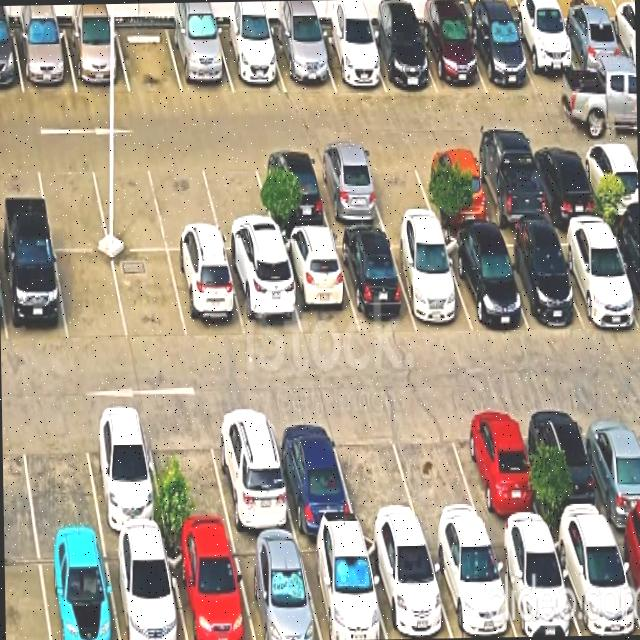empty: (388, 408, 486, 533), (329, 411, 421, 532), (144, 412, 232, 537), (18, 412, 101, 539), (200, 152, 277, 250), (90, 156, 166, 250), (149, 156, 222, 250), (35, 156, 108, 249), (112, 251, 187, 341), (54, 251, 127, 341), (360, 150, 436, 225), (115, 25, 182, 93)
occupied: (453, 405, 545, 530), (207, 408, 295, 535), (268, 411, 356, 533), (525, 404, 610, 529), (81, 411, 165, 536), (549, 526, 640, 635), (487, 531, 580, 637), (425, 532, 517, 638), (297, 535, 386, 640), (230, 538, 321, 640), (363, 535, 452, 639), (552, 224, 640, 326), (166, 538, 254, 640), (494, 231, 582, 329), (441, 233, 528, 332), (104, 538, 186, 640), (387, 233, 472, 331), (333, 232, 416, 332), (278, 234, 358, 337), (37, 539, 118, 640), (578, 403, 640, 525), (168, 251, 245, 339), (0, 246, 67, 343), (225, 251, 301, 336), (469, 146, 549, 226), (254, 152, 330, 231), (415, 148, 492, 224), (310, 151, 385, 228), (510, 21, 586, 96), (555, 21, 634, 93), (528, 143, 600, 219), (465, 20, 537, 93), (417, 20, 486, 94), (366, 24, 437, 93), (215, 26, 285, 93), (166, 25, 233, 93), (316, 28, 386, 92), (578, 142, 638, 216), (63, 26, 129, 93), (13, 27, 76, 93), (270, 29, 334, 92), (607, 223, 640, 321), (610, 524, 640, 623), (605, 21, 636, 92)
